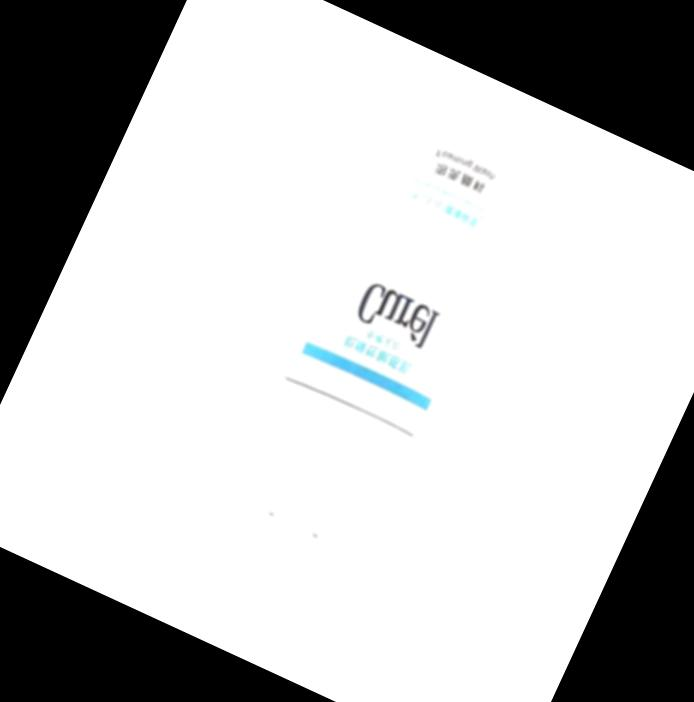cosmetic: (151, 60, 584, 660)
